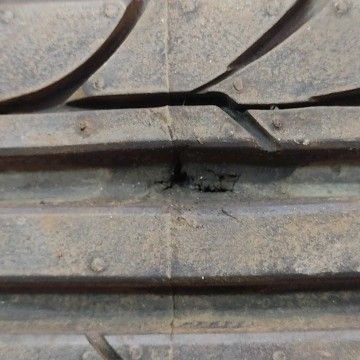tr: (168, 145, 240, 194)
